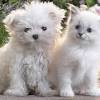dog: (2, 3, 64, 49), (66, 2, 100, 45)
